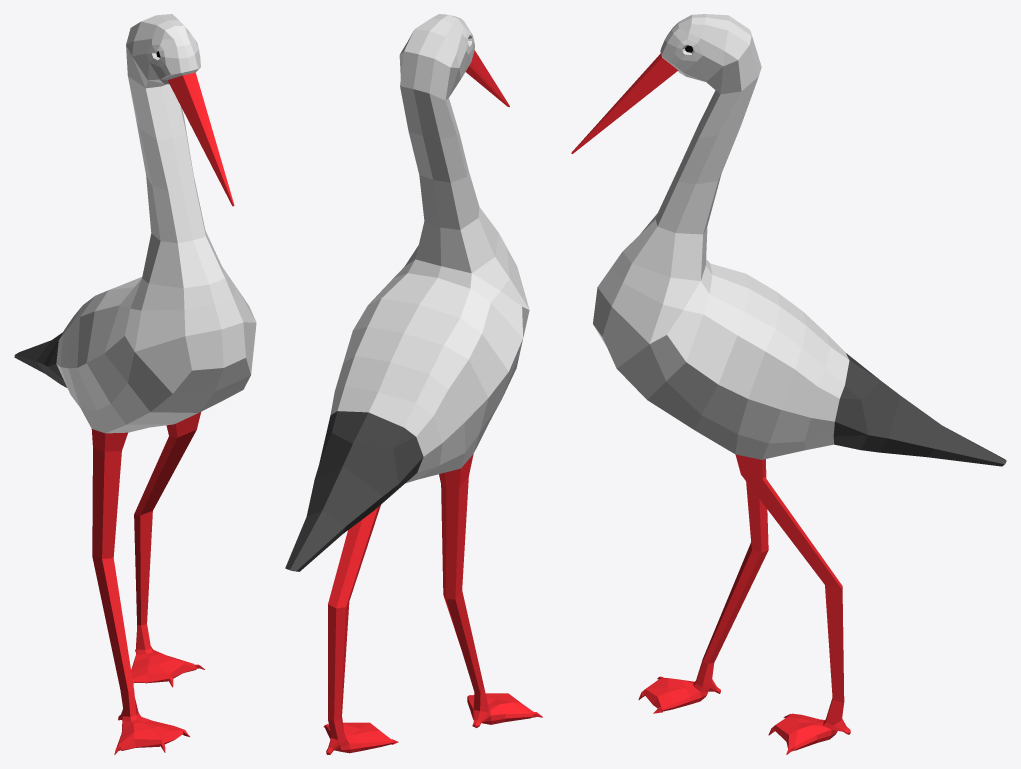
The model's file is Swan.FBX.
3 views of the same model, side by side, from view 1: azimuth 30°, elevation 25°; view 2: azimuth 150°, elevation 25°; view 3: azimuth 270°, elevation 25° (orthographic).
Visible parts, largest first — view 1: Swan; view 2: Swan; view 3: Swan.
Part boxes in pixels (bbox=[...]): Swan: bbox=[14, 14, 256, 754]; Swan: bbox=[285, 14, 542, 754]; Swan: bbox=[571, 14, 1006, 754].
Size of the model in its own units: 0.2965 by 1.28 by 0.7193.
Materials: 1 (1 with a texture image).
